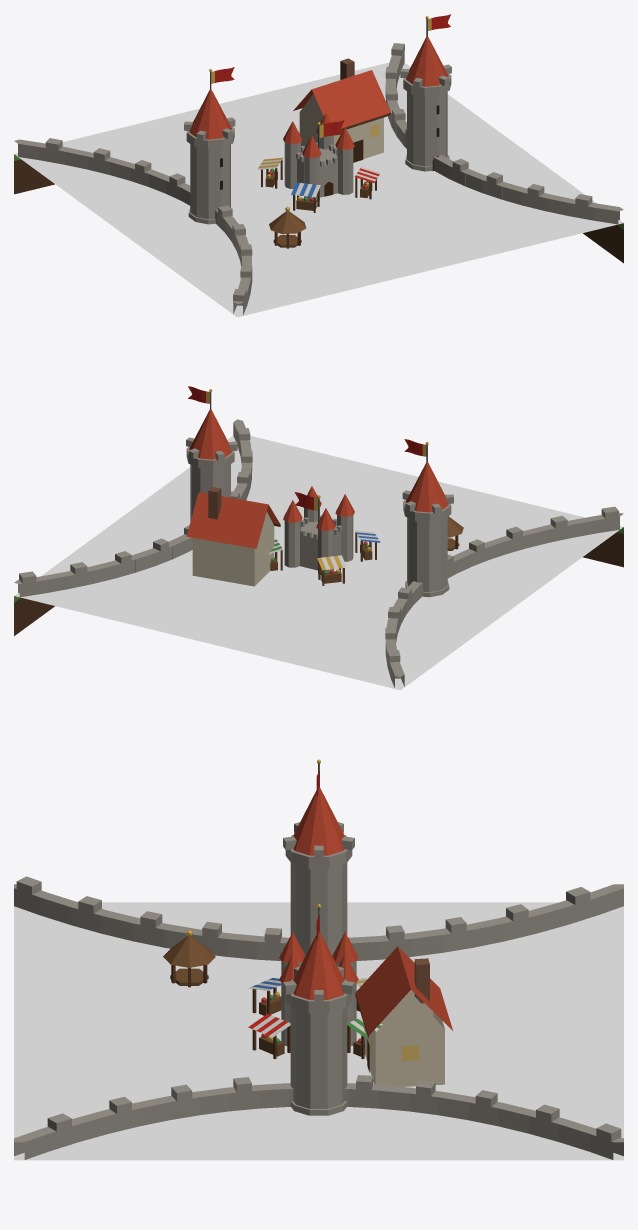
Rendered from xcrcr.glb.
The picture shows the model from 3 angles, top to bottom: view 1: azimuth 30°, elevation 25°; view 2: azimuth 150°, elevation 25°; view 3: azimuth 270°, elevation 25°; orthographic projection. The views are drawn at different scales.
Visible parts, largest first — view 1: xcrcr; view 2: xcrcr; view 3: xcrcr.
Part boxes in pixels (x1,y1,x2,y2): xcrcr: [14, 14, 623, 317]; xcrcr: [14, 386, 623, 690]; xcrcr: [14, 759, 623, 1160].
Size of the model in its own units: 2 by 0.9222 by 2.
